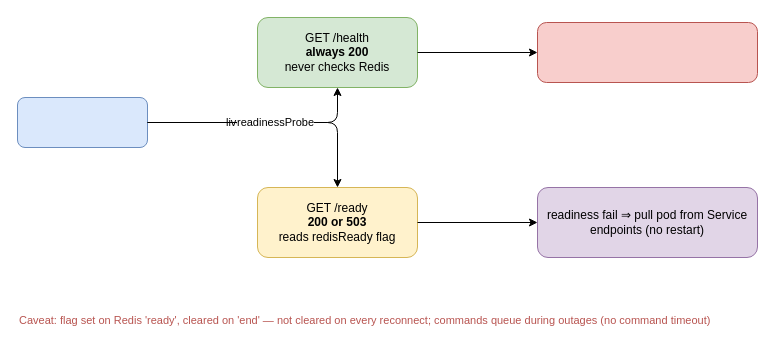
This 775x355 diagram has some shape labels left out. The box of each missing label's shape, as (x1, y1, x2, y2) in pixels:
Kubelet / probe: (16, 96, 148, 148)
liveness fail ⇒ restart container: (536, 22, 758, 82)
